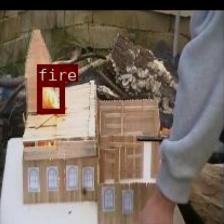fire: (36, 82, 64, 113)
